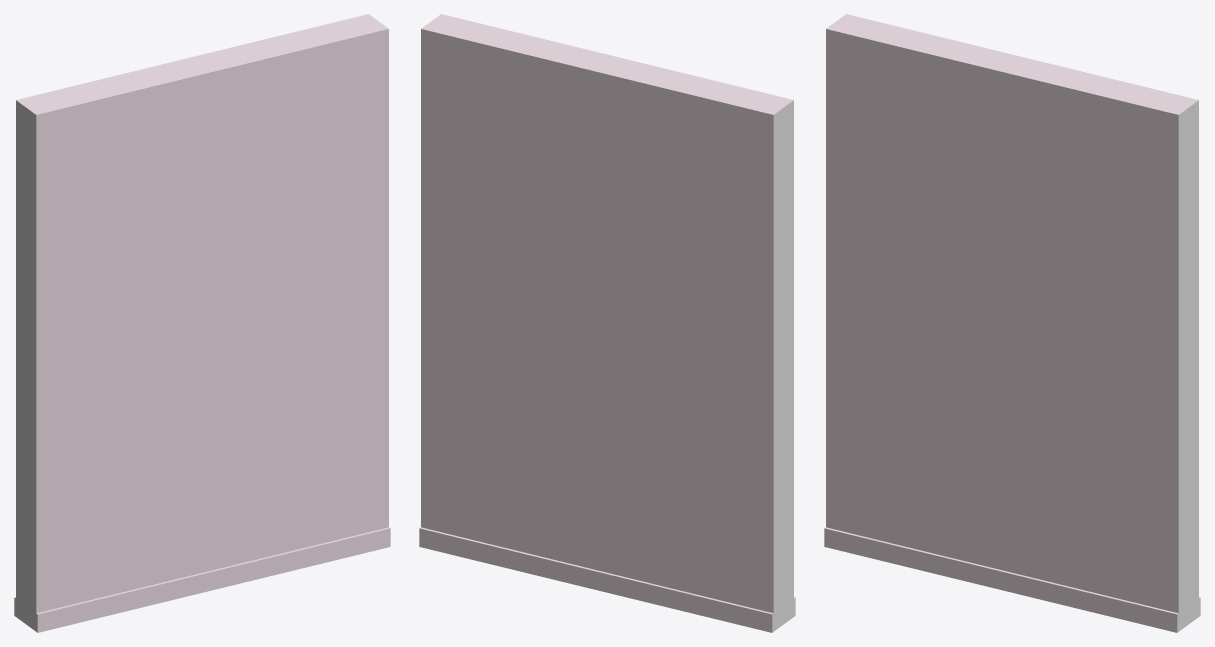
File: env_wall_2m_int_final.fbx
3 views of the same model, side by side, from view 1: azimuth 30°, elevation 25°; view 2: azimuth 150°, elevation 25°; view 3: azimuth 330°, elevation 25° (orthographic).
Visible parts, largest first — view 1: Casa pared 2m Interior final; view 2: Casa pared 2m Interior final; view 3: Casa pared 2m Interior final.
Part boxes in pixels (x1,y1,x2,y2): Casa pared 2m Interior final: (14,14,390,632); Casa pared 2m Interior final: (419,14,795,632); Casa pared 2m Interior final: (824,14,1200,632).
Size of the model in its own units: 200 by 280 by 23.
Materials: 2 (2 with a texture image).
